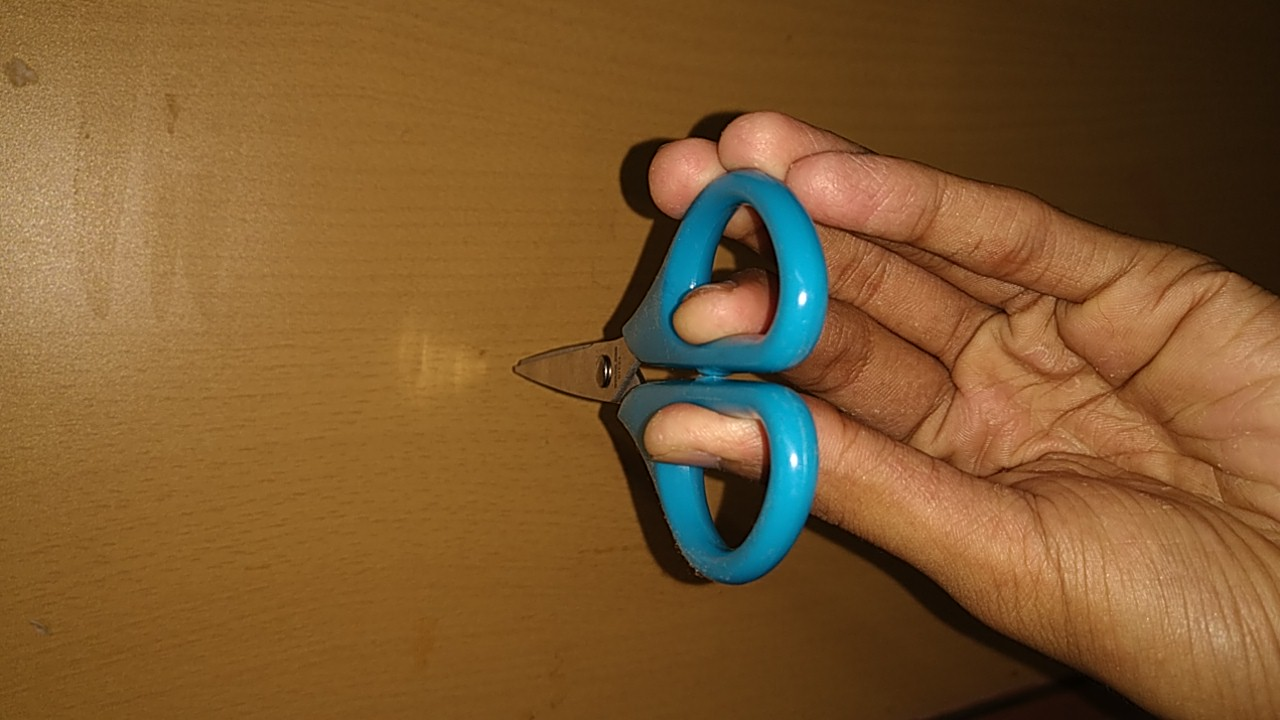scissor: (495, 159, 838, 598)
